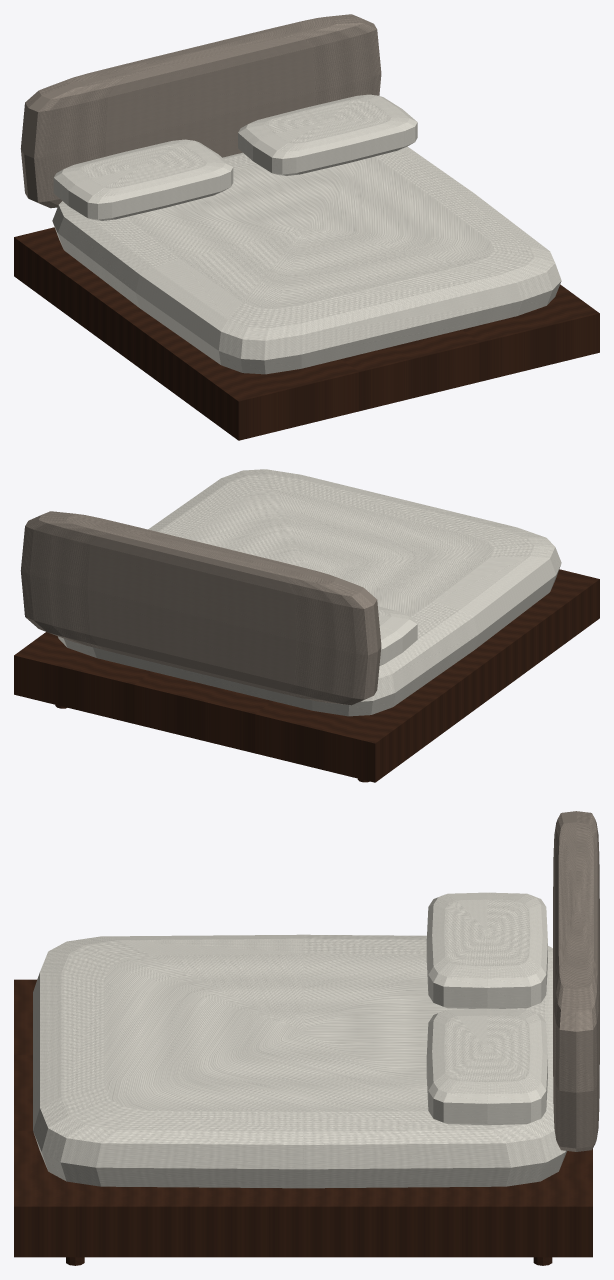
Rendered from bed-180_lod2.glb.
3 renders of one model, top to bottom at view 1: azimuth 30°, elevation 25°; view 2: azimuth 150°, elevation 25°; view 3: azimuth 270°, elevation 25°, orthographic. The views are drawn at different scales.
Parts seen in each view (by area): view 1: mattress, frame, headboard, pillow_1, pillow_2; view 2: headboard, mattress, frame, pillow_1; view 3: mattress, frame, headboard, pillow_2, pillow_1.
Part boxes in pixels (x1,y1,x2,y2): mattress: (52, 146, 561, 374); frame: (14, 227, 599, 440); headboard: (20, 14, 381, 208); pillow_1: (53, 139, 233, 220); pillow_2: (238, 94, 417, 175); headboard: (20, 511, 381, 705); mattress: (58, 469, 561, 716); frame: (14, 569, 599, 782); pillow_1: (378, 606, 417, 665); mattress: (33, 934, 566, 1188); frame: (14, 979, 592, 1257); headboard: (553, 811, 599, 1151); pillow_2: (426, 1008, 547, 1125); pillow_1: (426, 892, 547, 1008).
Size of the model in its own units: 2 by 1.08 by 2.18.
Materials: 3 (3 with a texture image).
